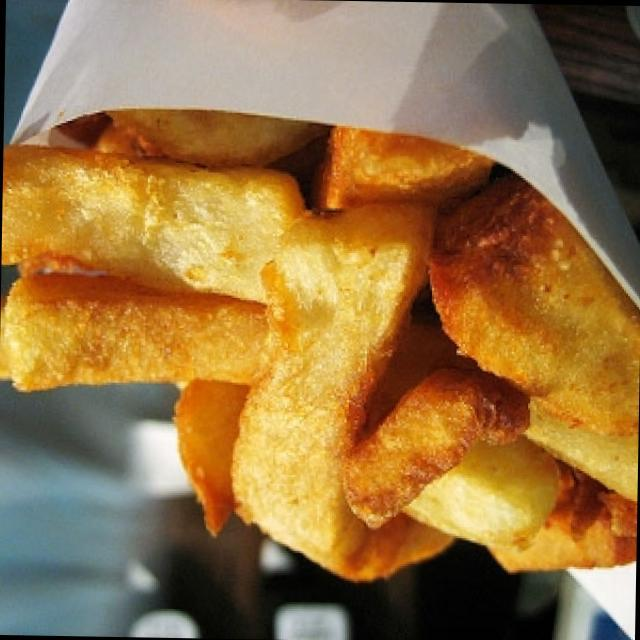French Fries: (0, 130, 640, 582)
